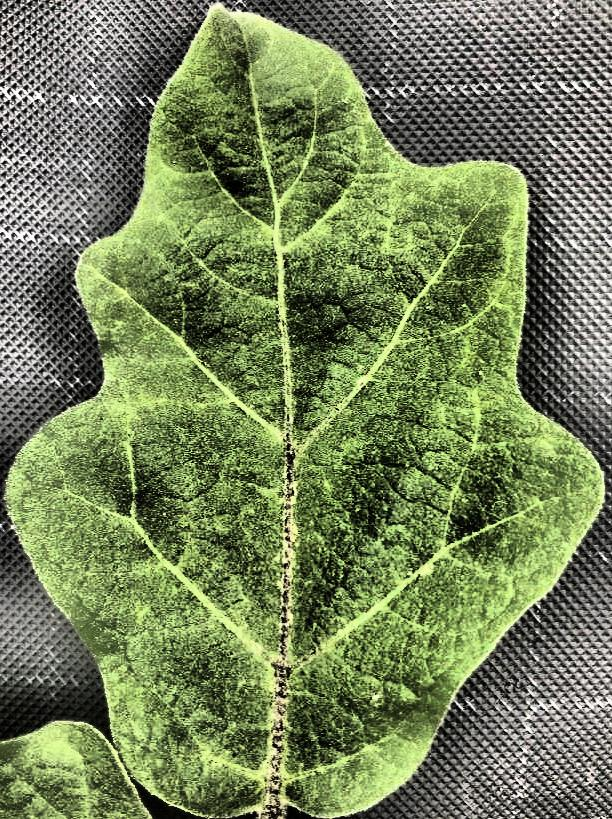HEALTHY: (0, 1, 612, 819)
